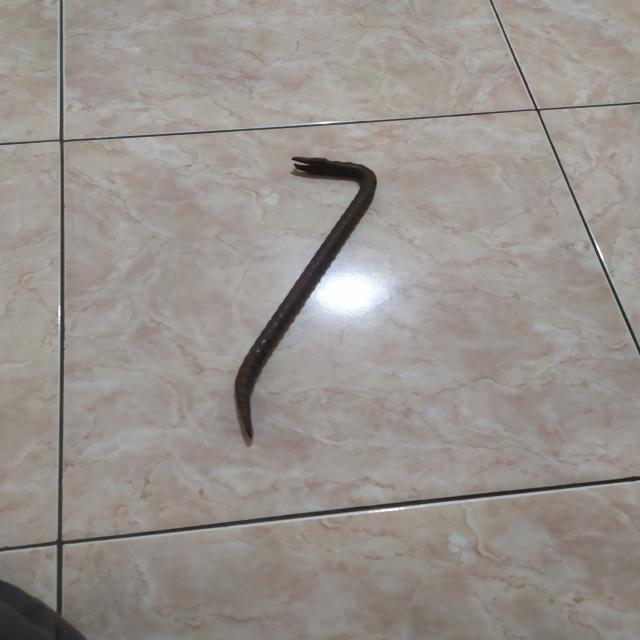Linggis: (234, 153, 379, 443)
